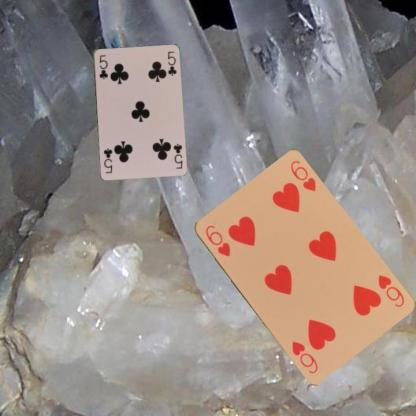5c: (170, 140, 184, 170), (96, 52, 108, 80)
6h: (374, 272, 406, 309), (202, 222, 232, 258)
